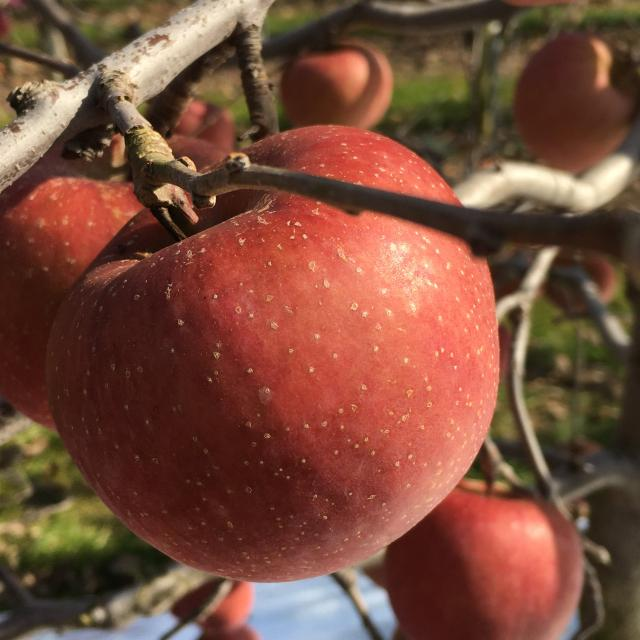fresh: (34, 119, 510, 590)
